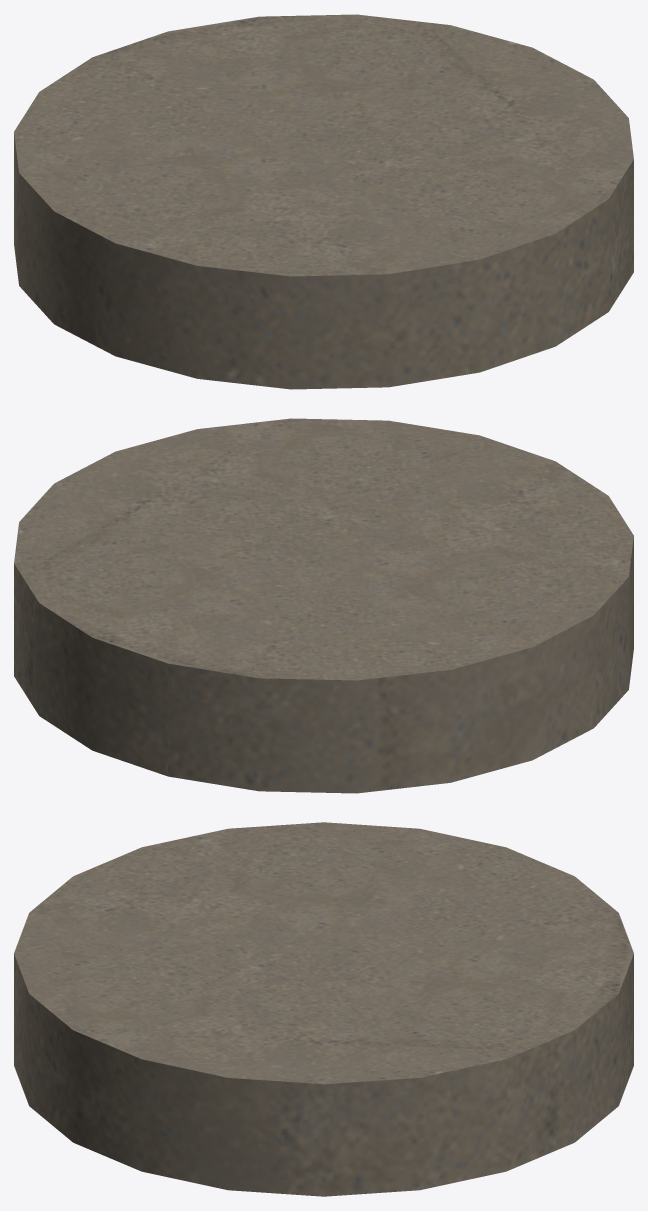
The model's file is Säule50B20H.fbx.
The picture shows the model from 3 angles, top to bottom: view 1: azimuth 30°, elevation 25°; view 2: azimuth 150°, elevation 25°; view 3: azimuth 270°, elevation 25°; orthographic projection.
Visible parts, largest first — view 1: Säule50B20H; view 2: Säule50B20H; view 3: Säule50B20H.
Part boxes in pixels (box(x1,y1,x2,y2)): Säule50B20H: box(14, 14, 633, 389); Säule50B20H: box(14, 418, 633, 793); Säule50B20H: box(14, 822, 633, 1196).
Size of the model in its own units: 100 by 20 by 100.
